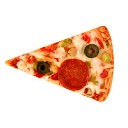pepperonipizza: (4, 22, 114, 102)
